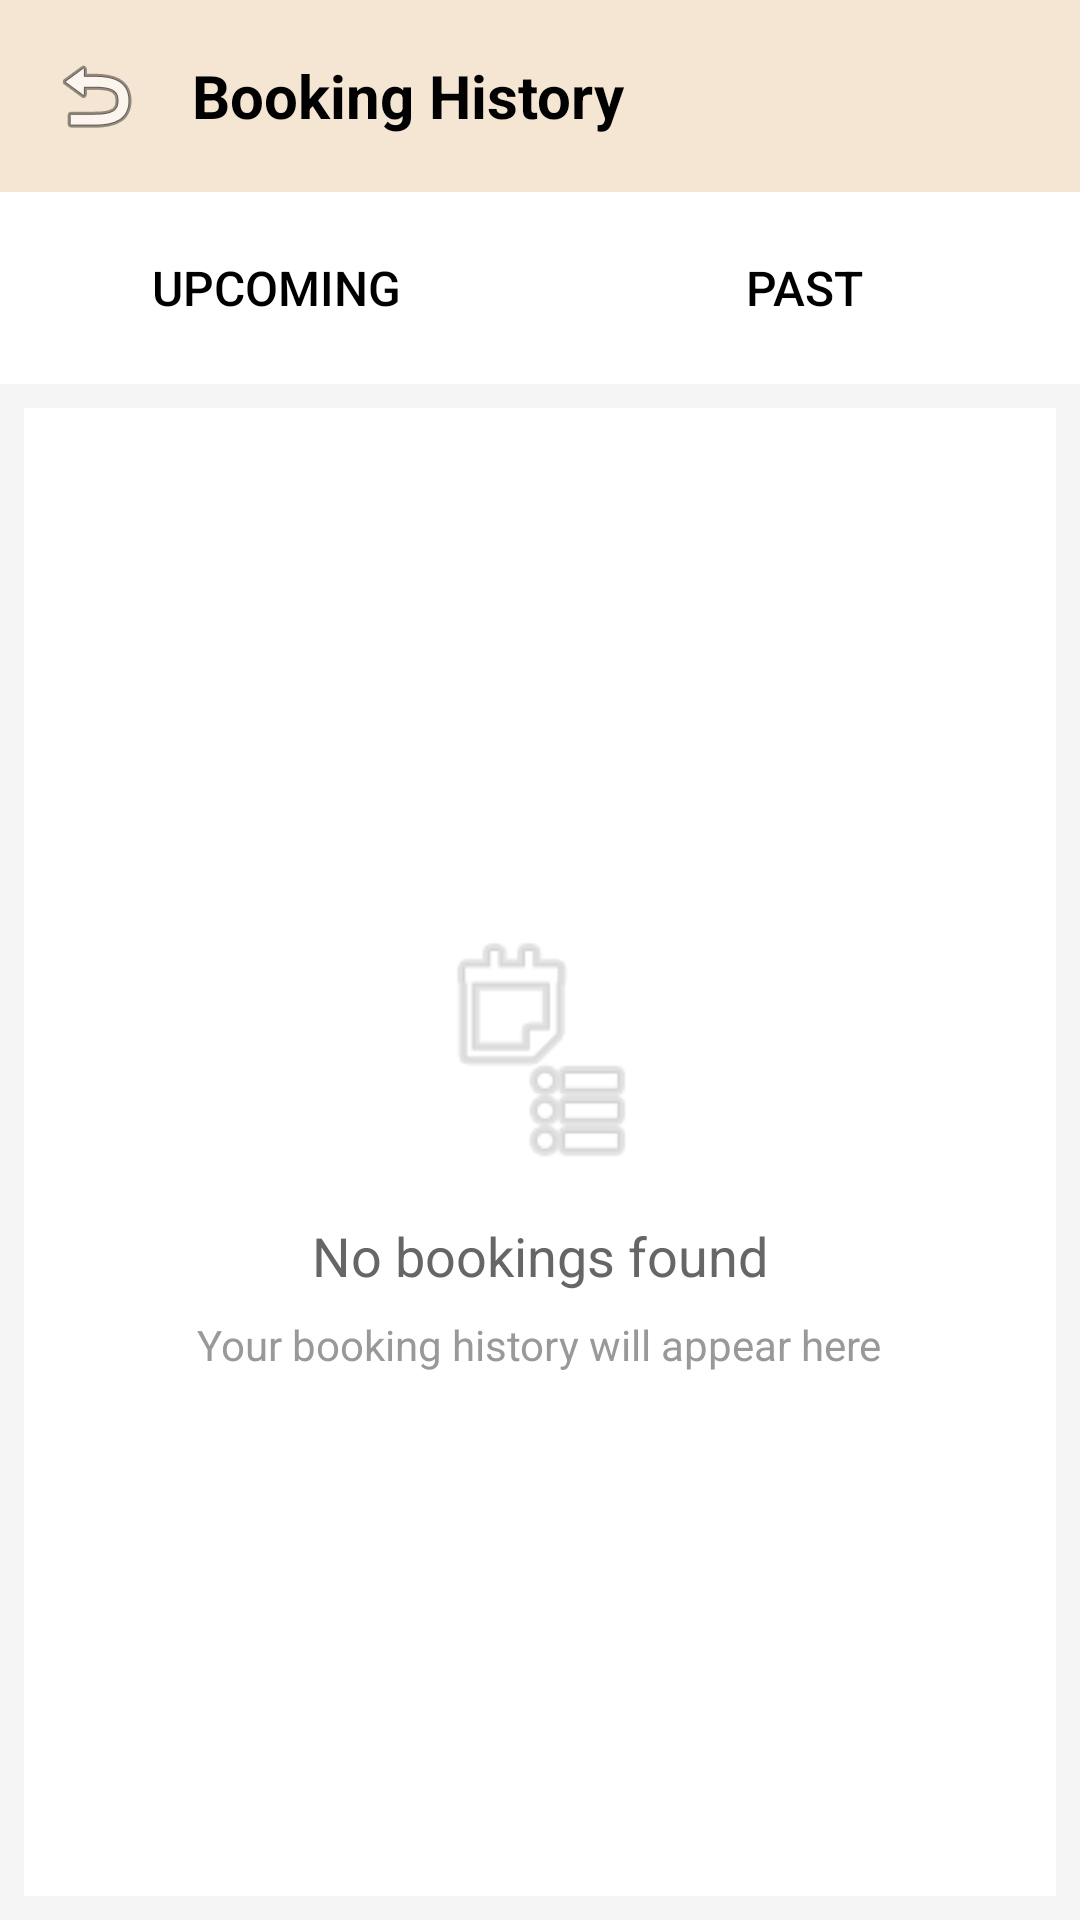

Icons on this 1080 × 1920 Android screen, each with the point to tap as (x,y):
agenda: (541,1049)
Back: (97,96)
